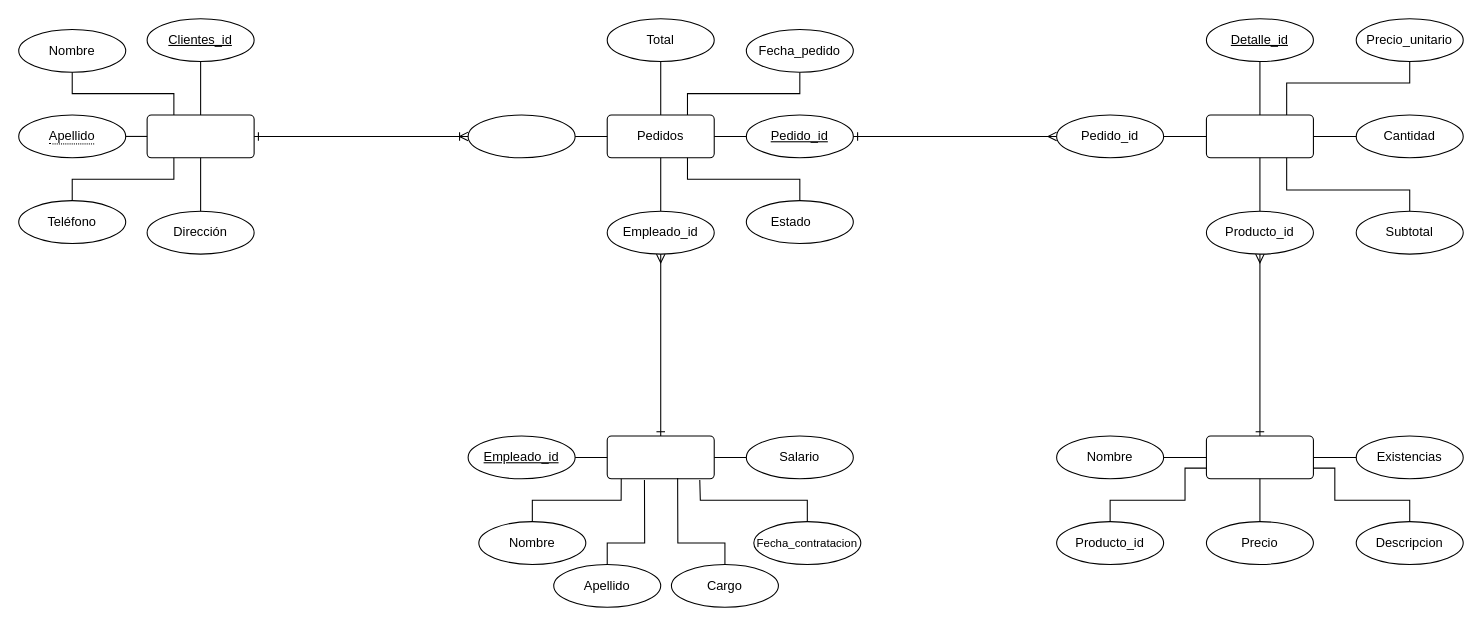
Some shapes in this 1482 by 626 pixel diagram are drawn without their labels. Each missing label, with the box of its shape:
Cliente_id: (467, 114, 575, 158)
Clientes: (146, 114, 254, 158)
Detalles_pedido: (1205, 114, 1313, 158)
Empleados: (606, 435, 714, 479)
Productos: (1205, 435, 1313, 479)
